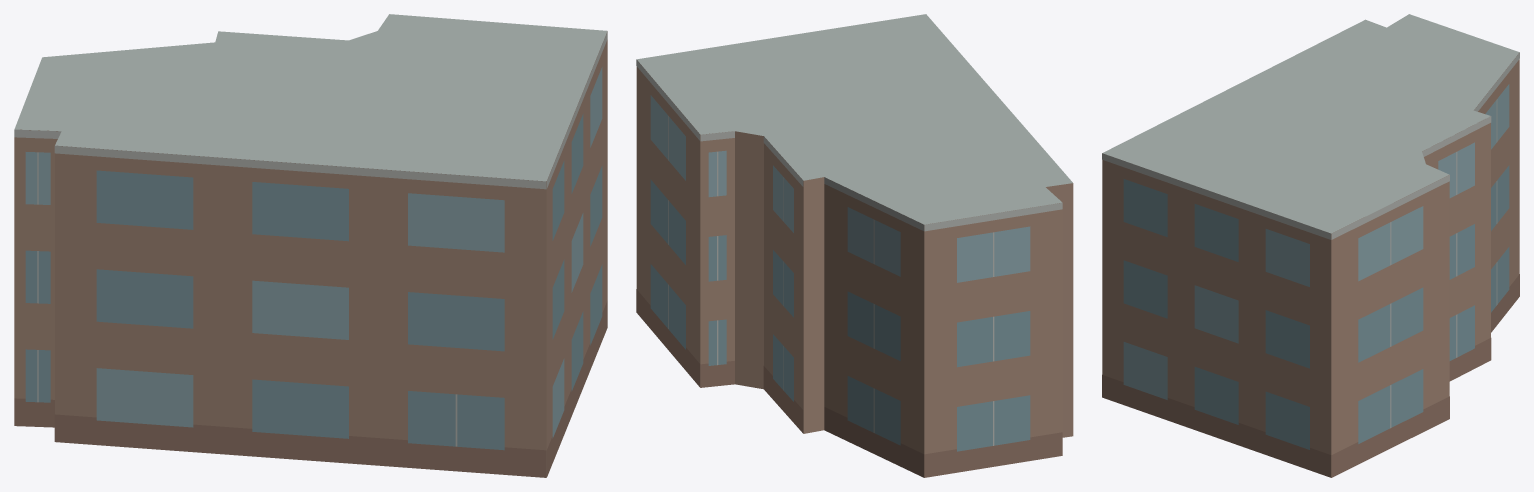
Rendered from survey-upis-32602391.glb.
3 views of the same model, side by side, from view 1: azimuth 30°, elevation 25°; view 2: azimuth 150°, elevation 25°; view 3: azimuth 270°, elevation 25° (orthographic). The views are drawn at different scales.
Parts seen in each view (by area): view 1: survey-upis-32602391.tmp; view 2: survey-upis-32602391.tmp; view 3: survey-upis-32602391.tmp.
Part boxes in pixels (bbox=[...]): survey-upis-32602391.tmp: bbox=[14, 14, 607, 477]; survey-upis-32602391.tmp: bbox=[636, 14, 1073, 477]; survey-upis-32602391.tmp: bbox=[1102, 14, 1519, 477].
Size of the model in its own units: 17.65 by 9.15 by 14.18.
